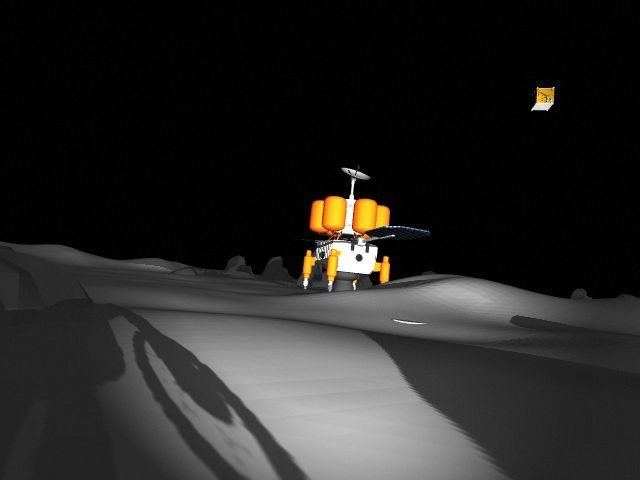homebase: (288, 164, 432, 295)
